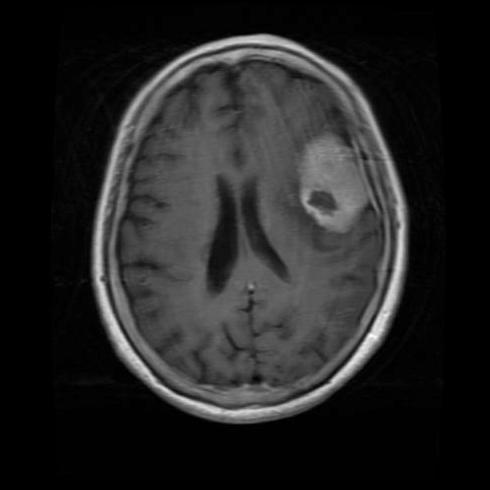Tumour-Meningioma: (287, 86, 377, 246)
